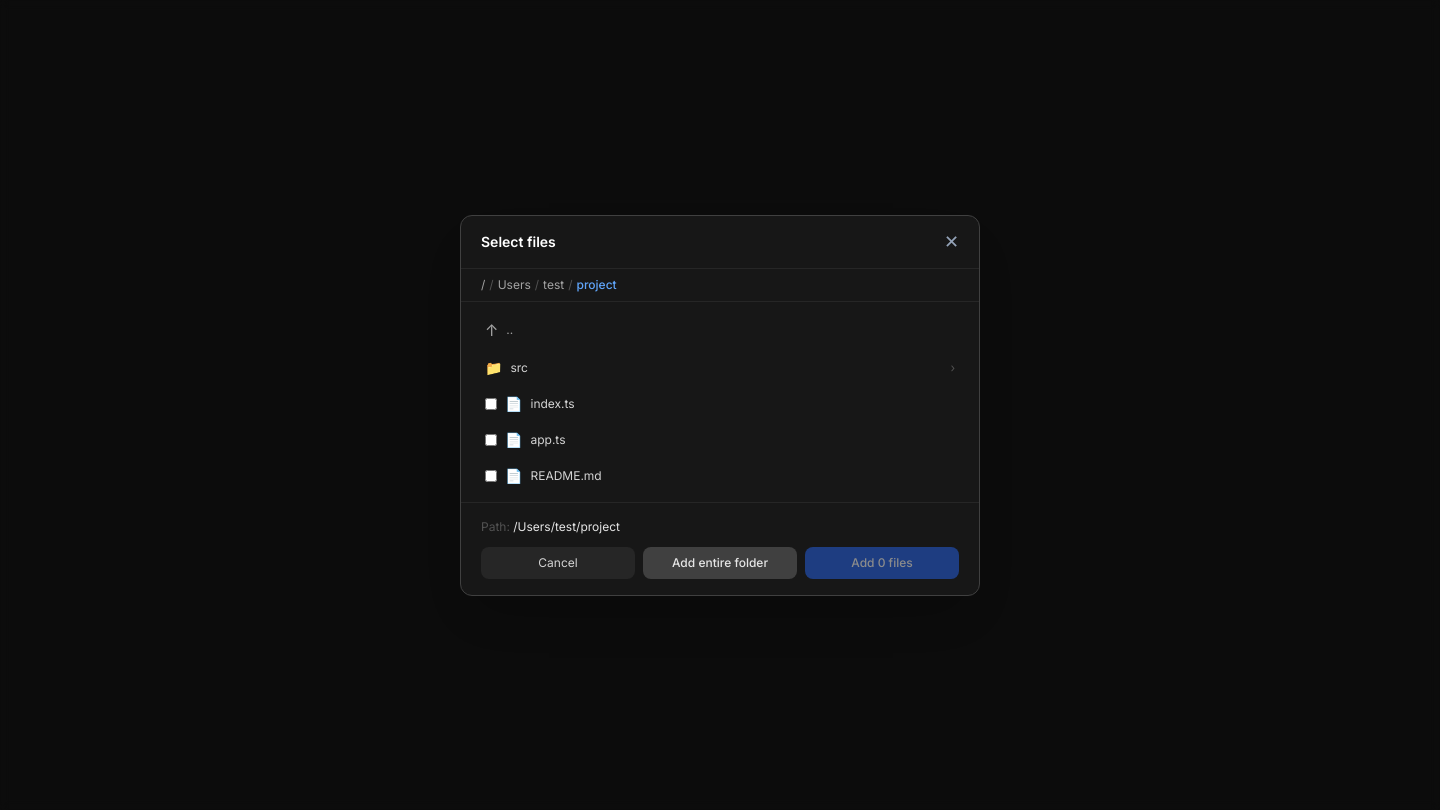
Test: DirectoryPicker › files mode › should toggle file selection when clicked
Click the button with test id "file-entry-index.ts" at (553,403), box [473,386,967,422]
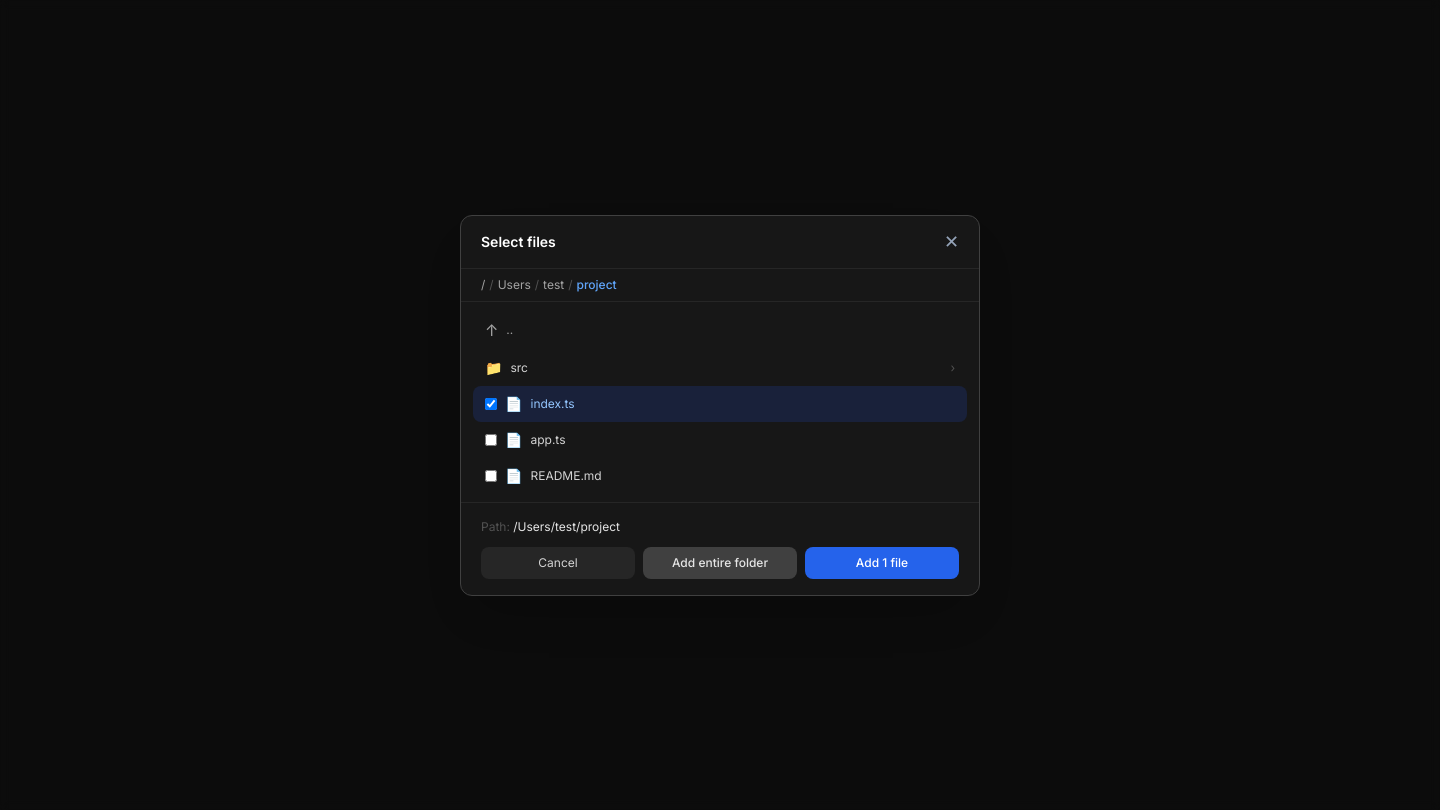
Result: the button with test id "add-files-btn" reads "Add 1 file" at [805,546,959,578]
Click the button with test id "file-entry-app.ts" at (548,439), box [473,422,967,458]
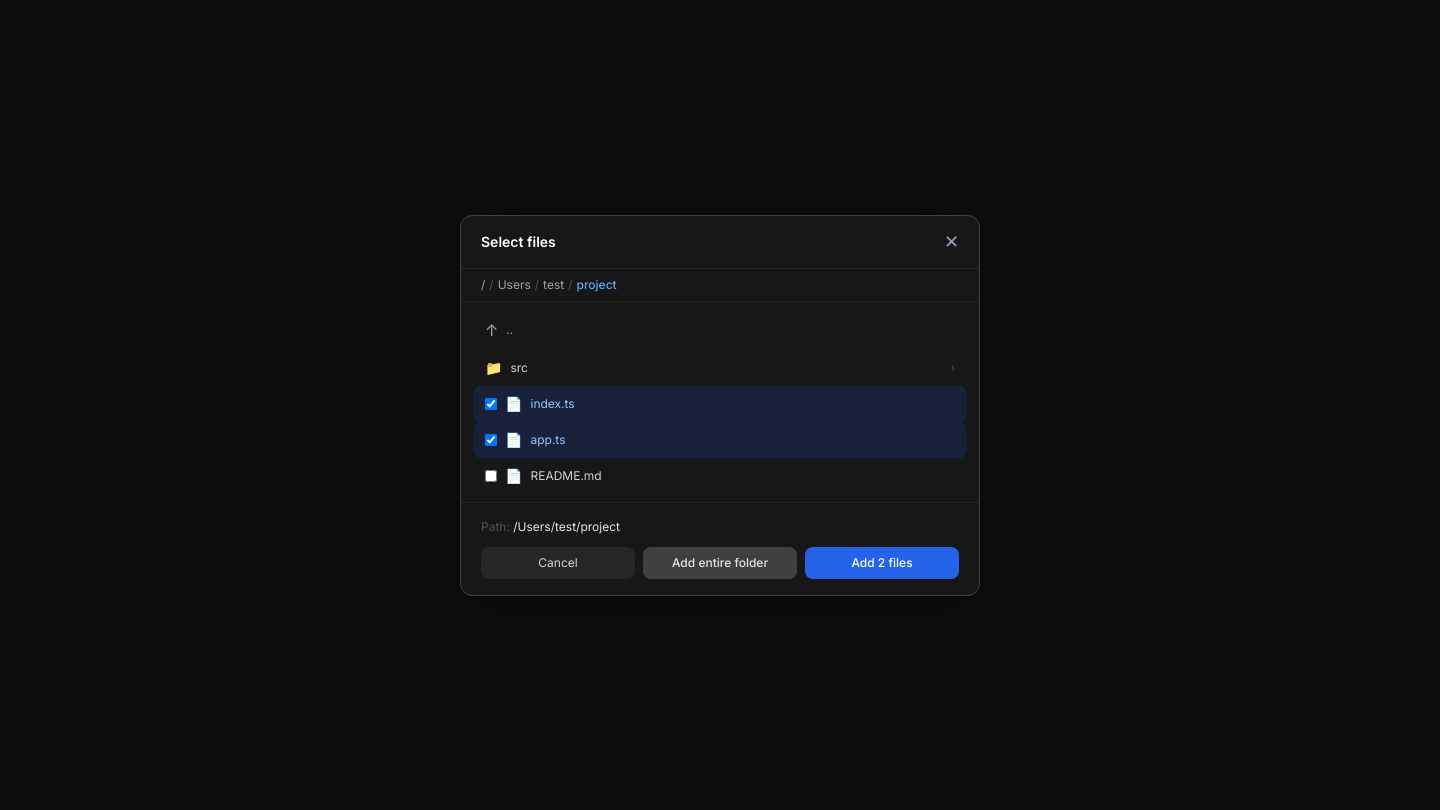
Result: the button with test id "add-files-btn" reads "Add 2 files" at [805,546,959,578]
Click the button with test id "file-entry-index.ts" at (553,403), box [473,386,967,422]
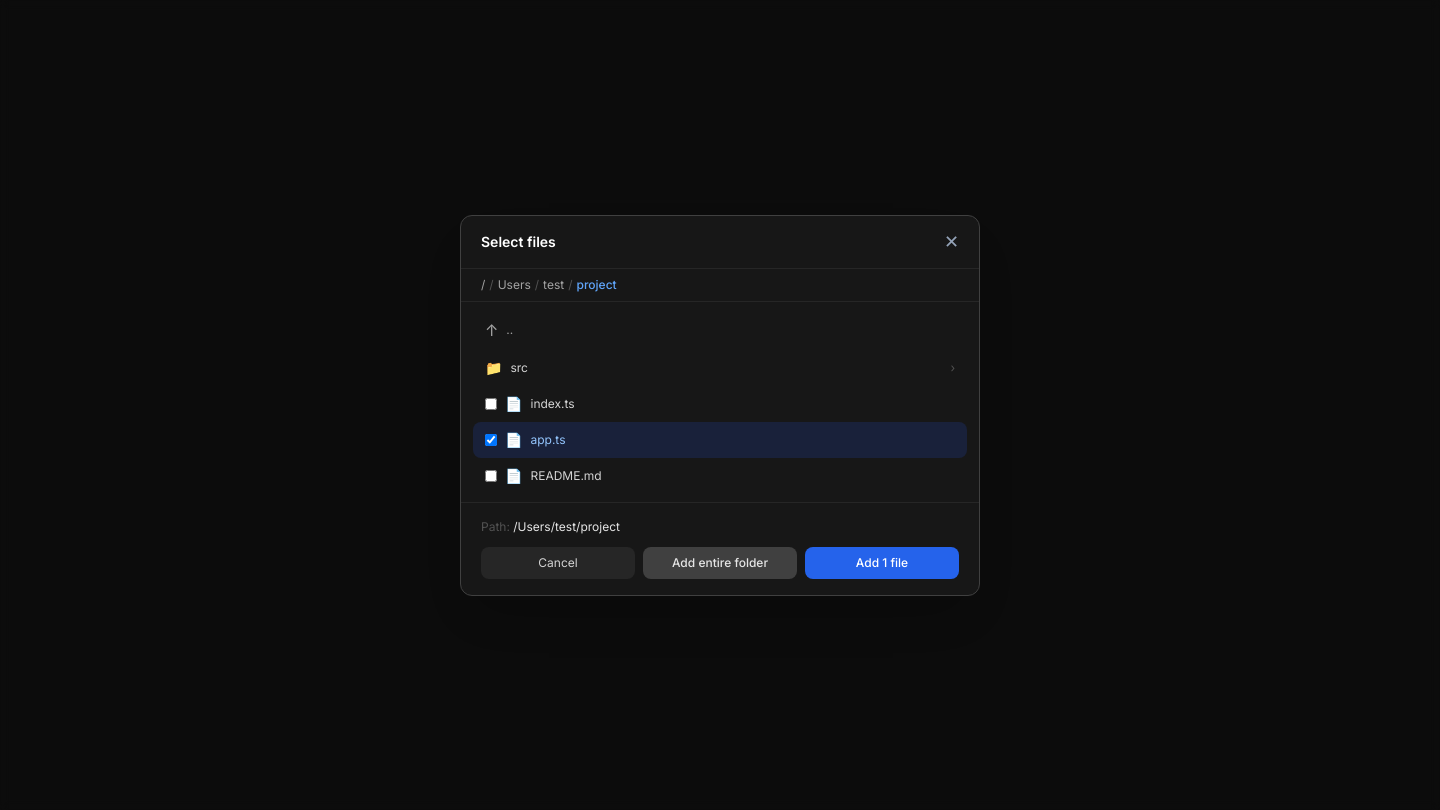
Result: the button with test id "add-files-btn" reads "Add 1 file" at [805,546,959,578]
